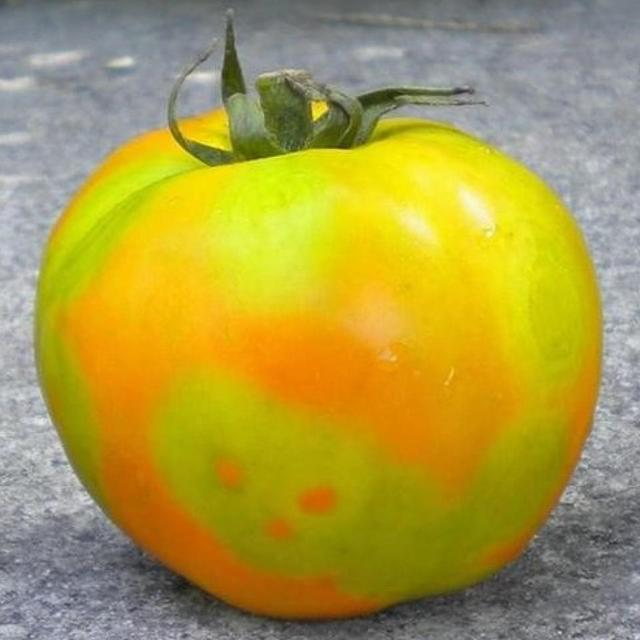Spotted wilt Virus Fruit: (22, 62, 404, 413)
